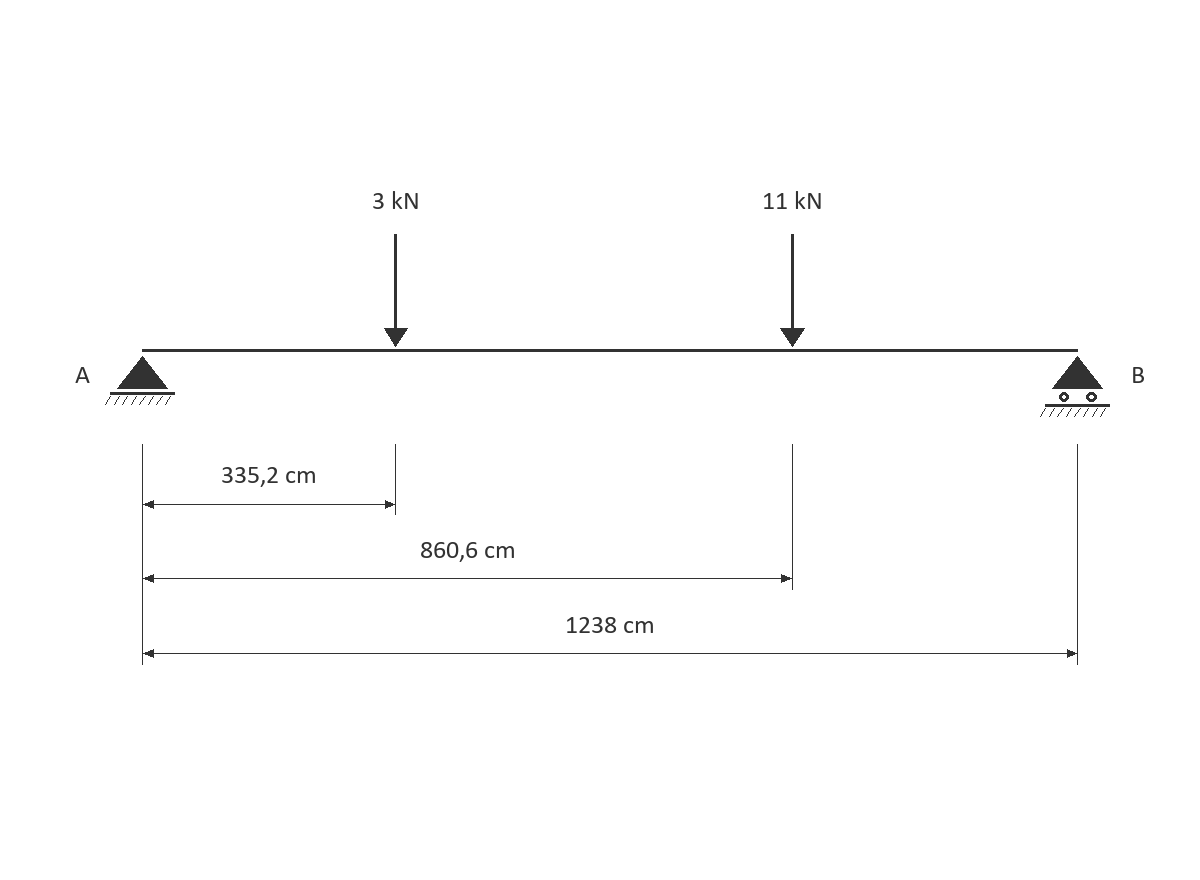pin_support: (105, 356, 175, 405)
point_load: (780, 234, 805, 347), (384, 234, 408, 347)
roller_support: (1040, 356, 1110, 417)
